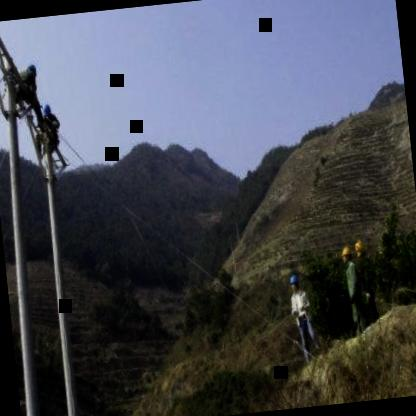helmet: (286, 270, 302, 294), (352, 233, 366, 260), (38, 102, 53, 122), (339, 245, 351, 266)
